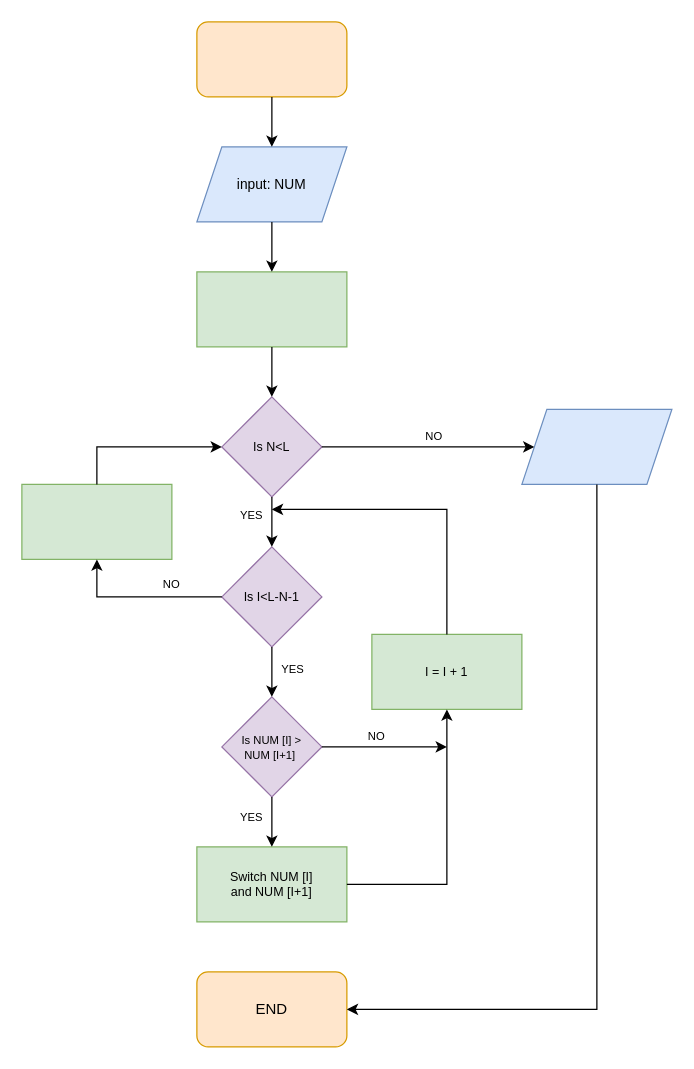
Image size: 694x1069. Some labels were removed from this diagram. The shapes that lost their labels are listed below. From the top down, each one's centre as x and y in pixels, then its label:
point (271, 59): START
point (271, 309): N = 0 I = 0 L = length of NUM
point (596, 446): Output: print NUM
point (96, 521): N = N + 1
